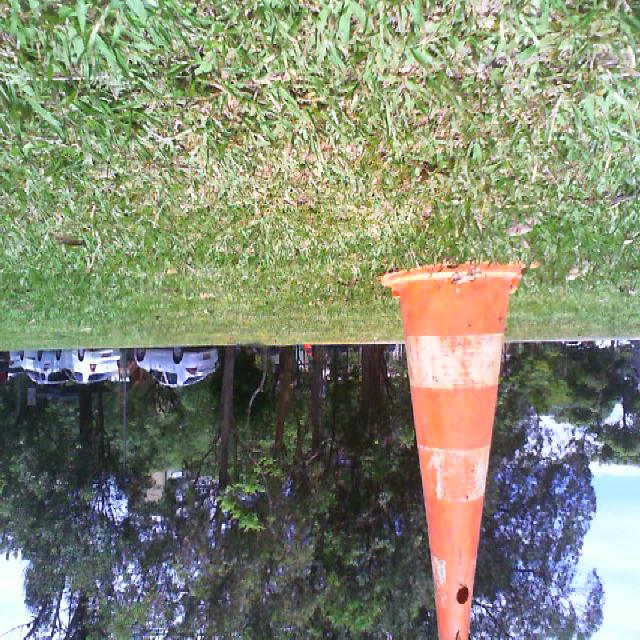cone: (381, 267, 520, 640)
